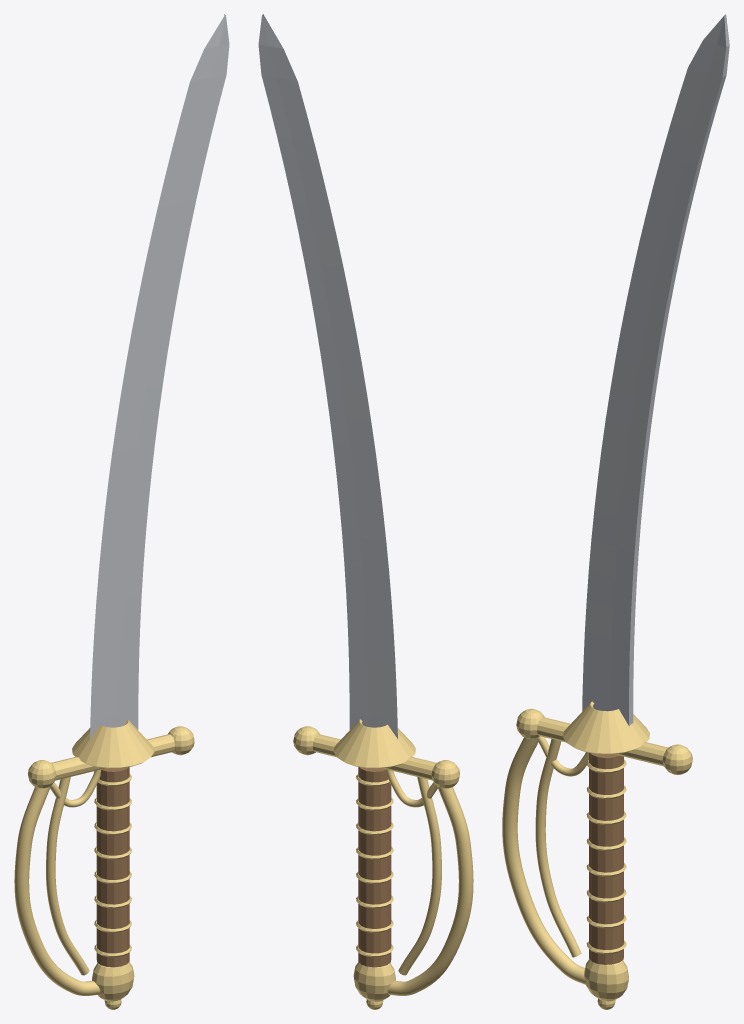
File: entermesser.glb
The picture shows the model from 3 angles, left to right: view 1: azimuth 30°, elevation 25°; view 2: azimuth 150°, elevation 25°; view 3: azimuth 330°, elevation 25°; orthographic projection. The views are drawn at different scales.
Visible parts, largest first — view 1: G_entermesser; view 2: G_entermesser; view 3: G_entermesser.
Part boxes in pixels (x1=…): G_entermesser: x1=14, y1=14, x2=229, y2=1009; G_entermesser: x1=258, y1=14, x2=473, y2=1009; G_entermesser: x1=502, y1=14, x2=729, y2=1009.
Size of the model in its own units: 0.2275 by 0.99 by 0.0767.
